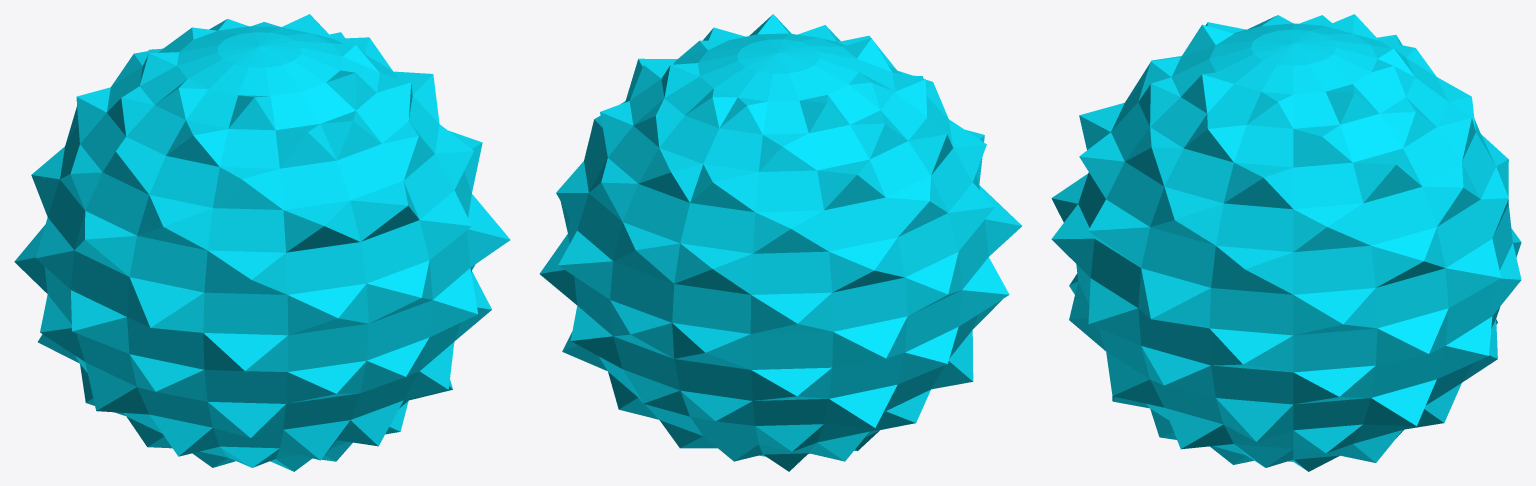
File: SpikeBall.fbx
3 renders of one model, left to right at view 1: azimuth 30°, elevation 25°; view 2: azimuth 150°, elevation 25°; view 3: azimuth 270°, elevation 25°, orthographic. The views are drawn at different scales.
Visible parts, largest first — view 1: Sphere; view 2: Sphere; view 3: Sphere.
Part boxes in pixels (bbox=[...]): Sphere: bbox=[14, 14, 510, 471]; Sphere: bbox=[539, 14, 1021, 471]; Sphere: bbox=[1051, 14, 1521, 471].
Bounding box in the file's own units: 225 × 200 × 214.
Materials: 1 (1 with a texture image).
